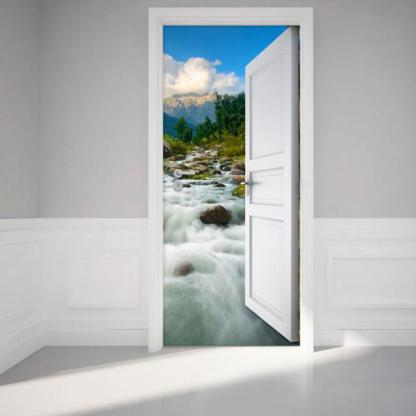door: (144, 3, 315, 360)
